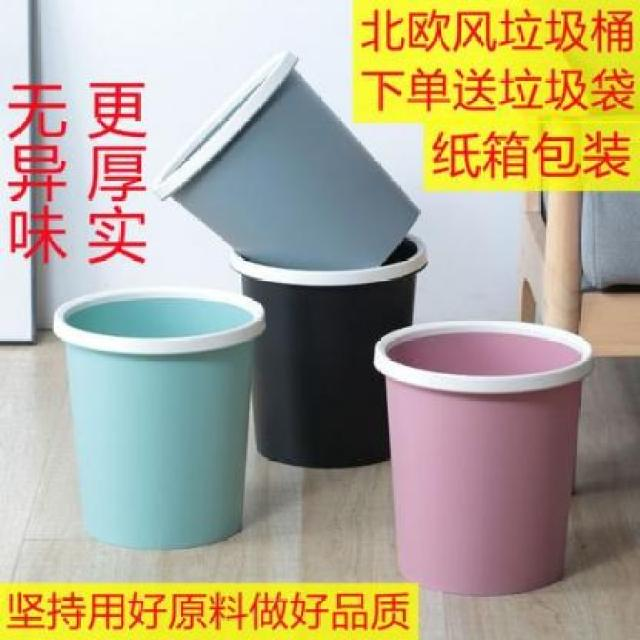dustbin: (371, 317, 598, 598), (146, 48, 424, 270), (49, 281, 272, 554), (223, 228, 430, 472)
